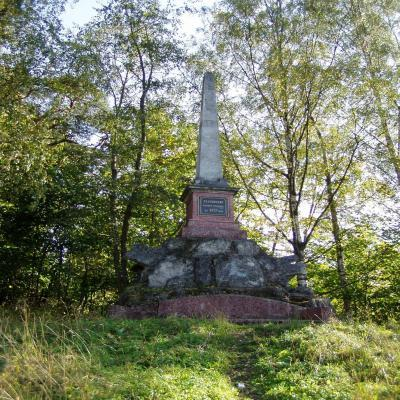sculpture: (110, 73, 333, 325)
